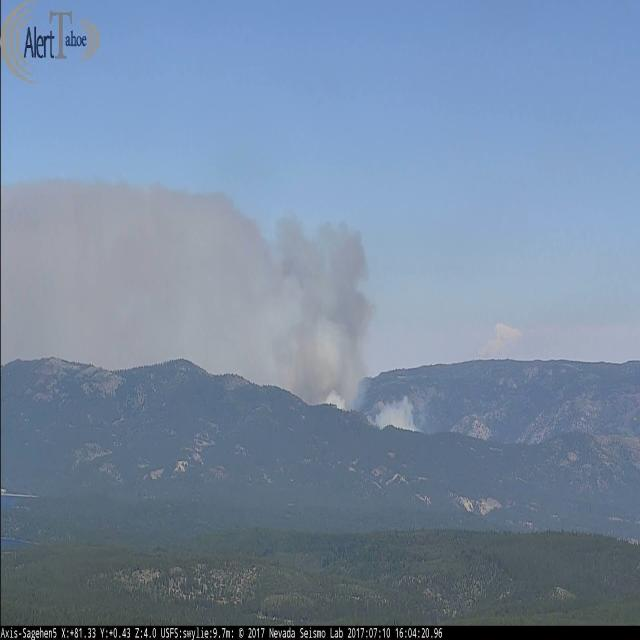smoke: (0, 182, 373, 410), (370, 397, 428, 436)
